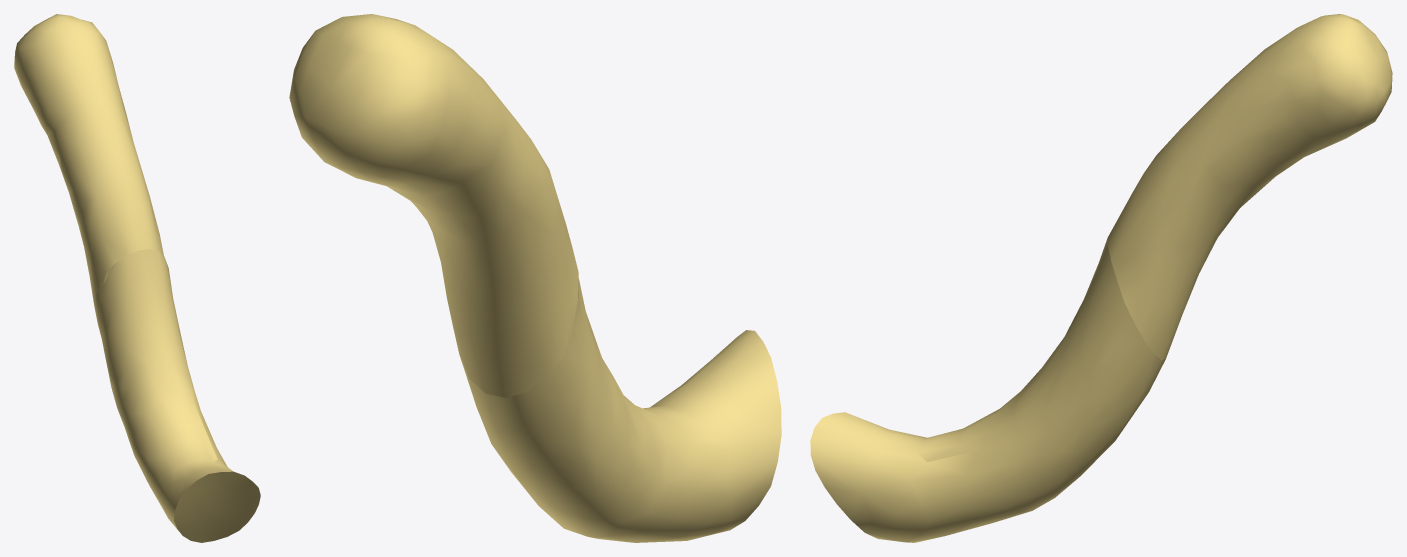
File: fma73608_mm2673m.glb
The picture shows the model from 3 angles, left to right: view 1: azimuth 30°, elevation 25°; view 2: azimuth 150°, elevation 25°; view 3: azimuth 270°, elevation 25°; orthographic projection. The views are drawn at different scales.
Visible parts, largest first — view 1: FMA73608_MM2673M; view 2: FMA73608_MM2673M; view 3: FMA73608_MM2673M.
Part boxes in pixels (x1,y1,x2,y2): FMA73608_MM2673M: (14, 14, 260, 542); FMA73608_MM2673M: (289, 14, 781, 542); FMA73608_MM2673M: (810, 14, 1392, 542).
Bounding box in the file's own units: 0.00285 × 0.0112 × 0.0111.
